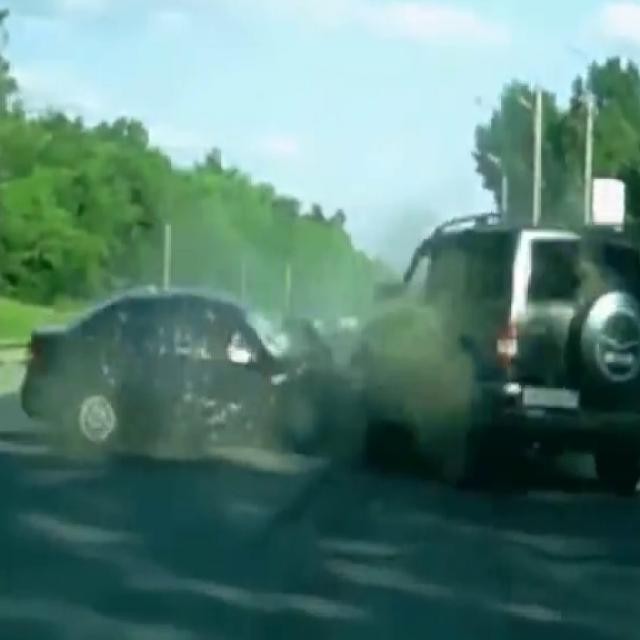accident: (4, 252, 611, 486)
